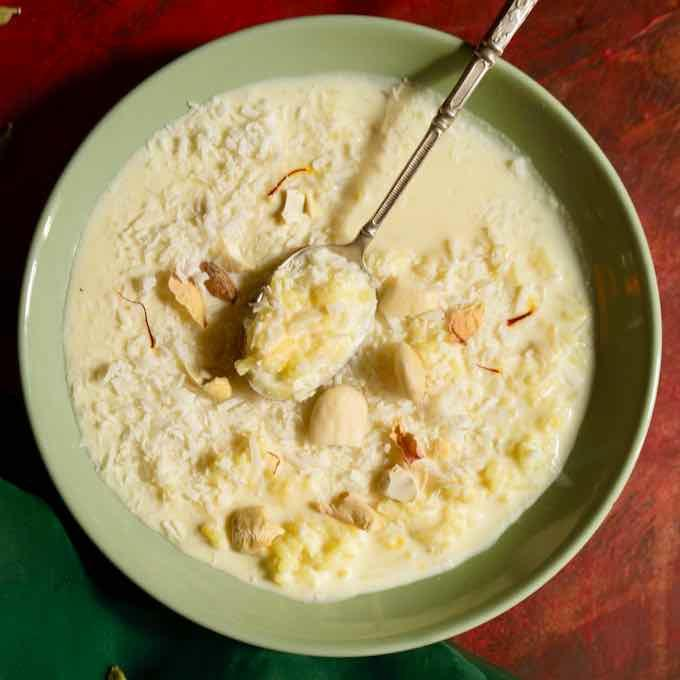Kheer: (65, 76, 600, 599)
